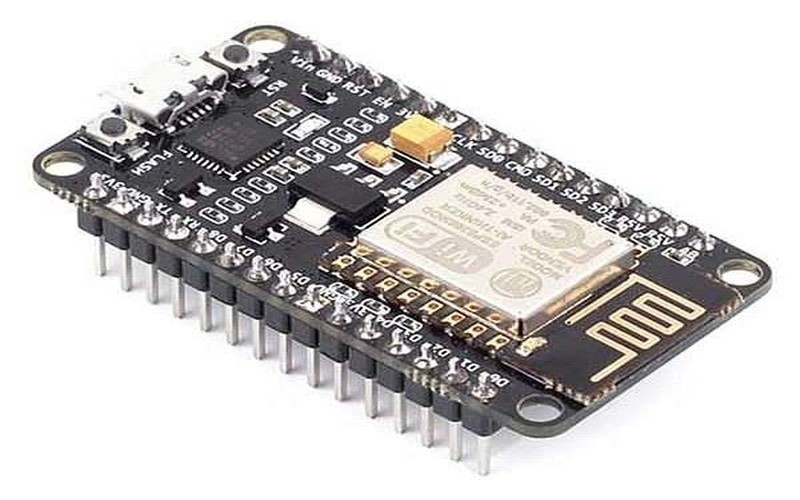IoT Sensor: (19, 22, 790, 483)
